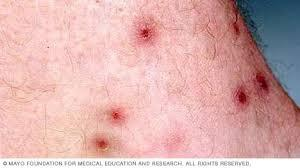Chiggers: (249, 70, 273, 99), (135, 16, 158, 45), (91, 136, 115, 154), (104, 107, 126, 126), (226, 19, 243, 41), (233, 85, 249, 107), (228, 0, 241, 21)
